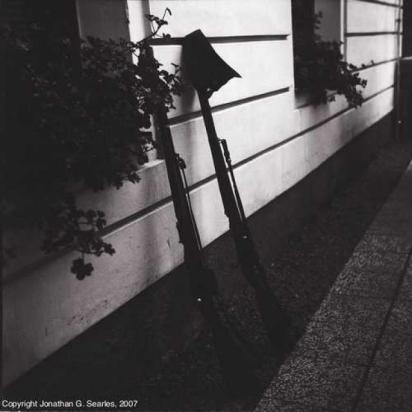Gun: (134, 34, 268, 406)
